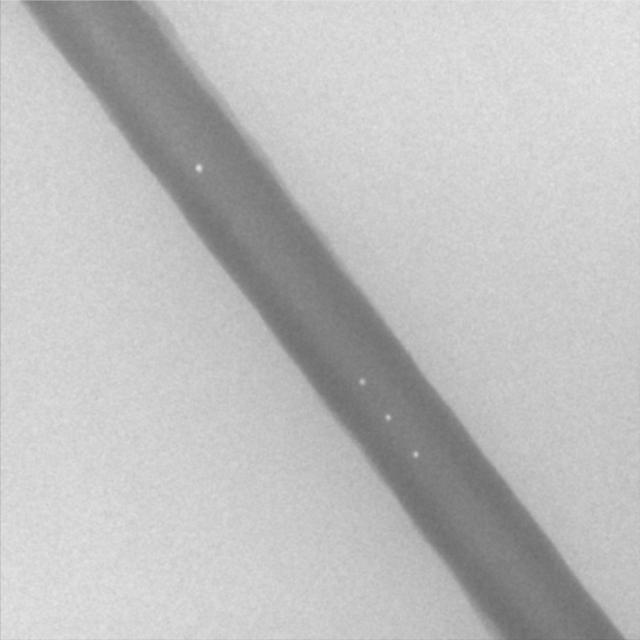air hole: (193, 162, 203, 174), (384, 411, 392, 423), (358, 375, 366, 386), (410, 449, 419, 458)
